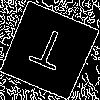T: (24, 25, 71, 80)
